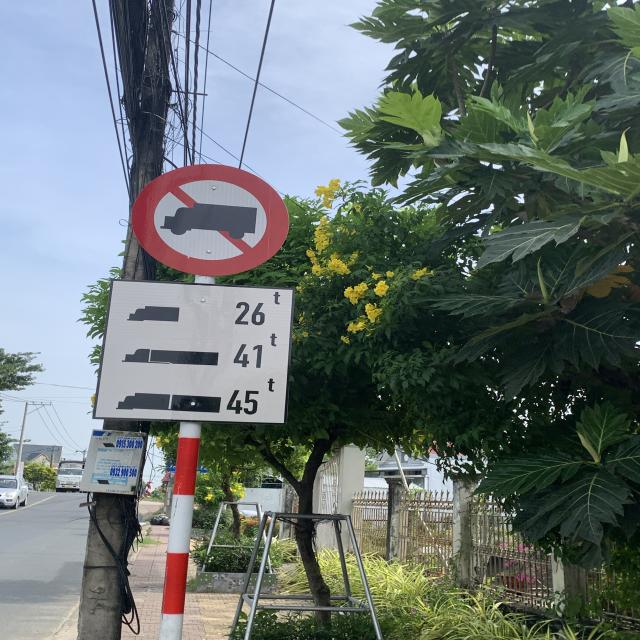Cam_Xe_Tai: (128, 163, 292, 277)
